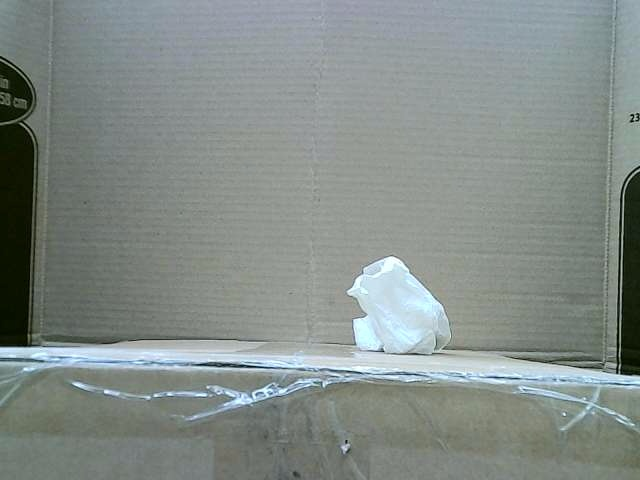Tissue: (346, 256, 452, 353)
